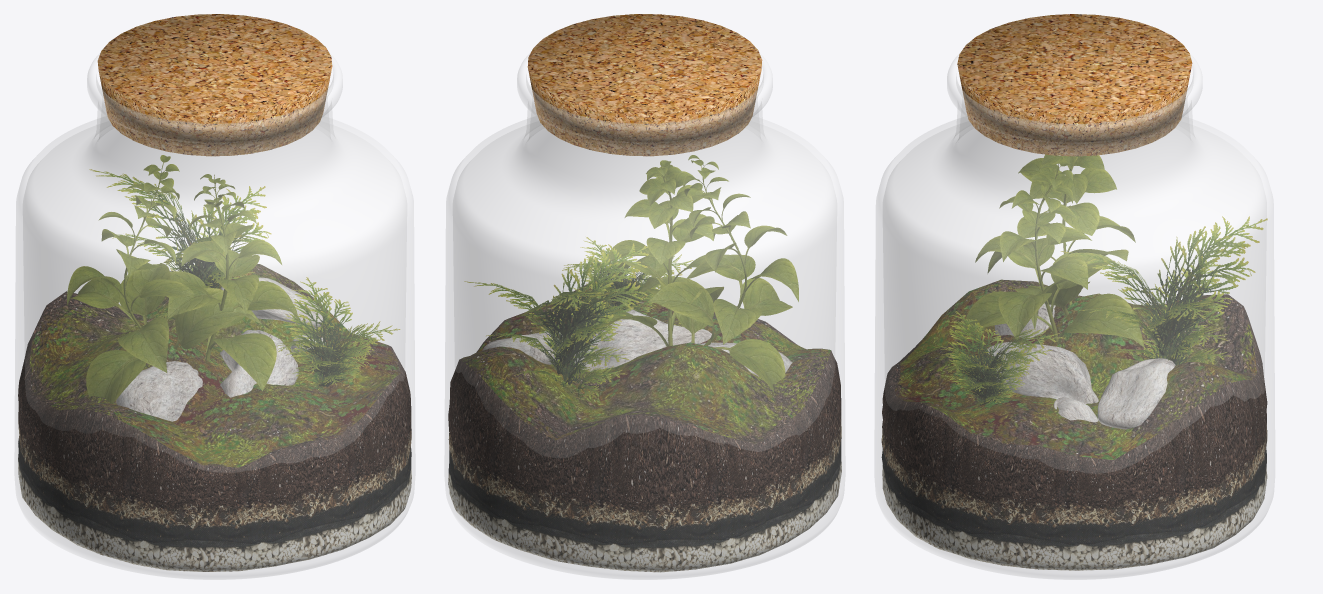
File: sk4dca1b25.glb
3 views of the same model, side by side, from view 1: azimuth 30°, elevation 25°; view 2: azimuth 150°, elevation 25°; view 3: azimuth 270°, elevation 25° (orthographic).
Parts seen in each view (by area): view 1: Cylinder.001_0; view 2: Cylinder.001_0; view 3: Cylinder.001_0.
Part boxes in pixels (x1=…): Cylinder.001_0: x1=14, y1=14, x2=415, y2=579; Cylinder.001_0: x1=444, y1=14, x2=845, y2=579; Cylinder.001_0: x1=874, y1=14, x2=1274, y2=579.
Bounding box in the file's own units: 0.2495 × 0.3 × 0.2702.
Materials: 8 (6 with a texture image).
